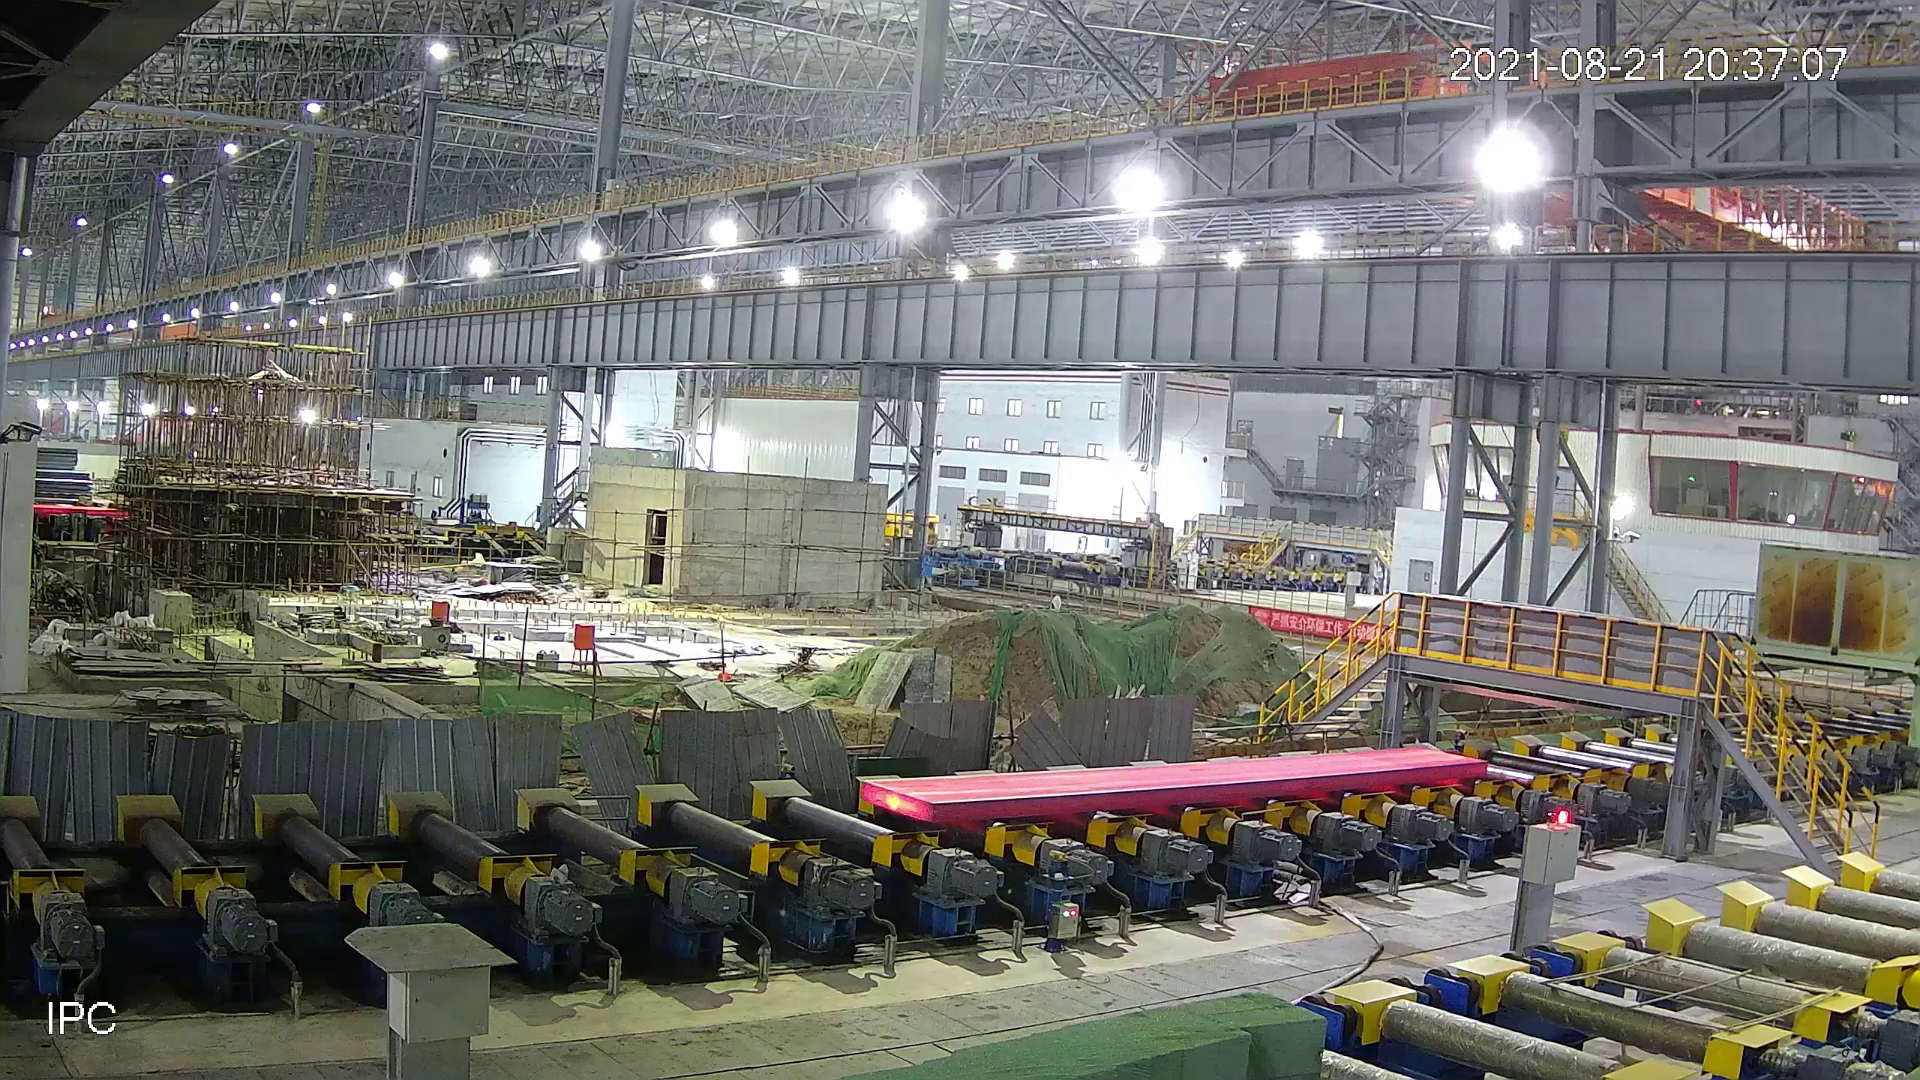slab: (856, 746, 1495, 827)
